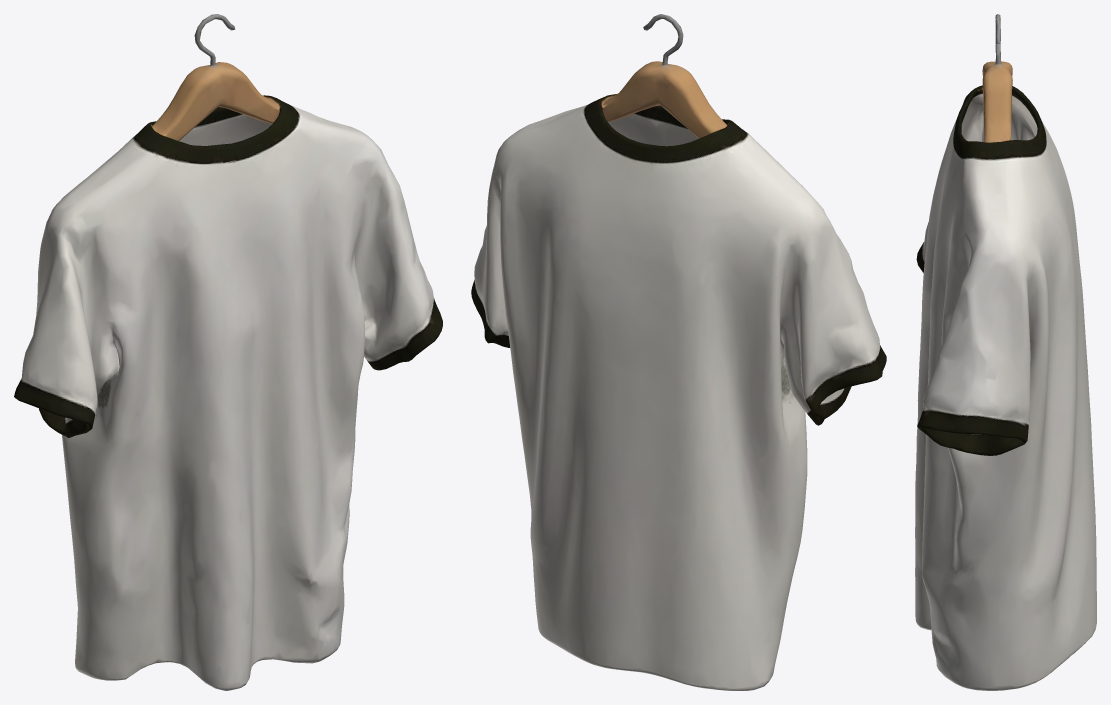
Rendered from 05-camisa.glb.
3 renders of one model, left to right at view 1: azimuth 30°, elevation 25°; view 2: azimuth 150°, elevation 25°; view 3: azimuth 270°, elevation 25°, orthographic. The views are drawn at different scales.
Parts seen in each view (by area): view 1: tripo_node_6eb373ab-7753-46c1-bd3d-4da37cc24d3b; view 2: tripo_node_6eb373ab-7753-46c1-bd3d-4da37cc24d3b; view 3: tripo_node_6eb373ab-7753-46c1-bd3d-4da37cc24d3b.
Part boxes in pixels (<box>): tripo_node_6eb373ab-7753-46c1-bd3d-4da37cc24d3b: <box>14,14,442,690</box>; tripo_node_6eb373ab-7753-46c1-bd3d-4da37cc24d3b: <box>471,14,886,690</box>; tripo_node_6eb373ab-7753-46c1-bd3d-4da37cc24d3b: <box>915,14,1096,690</box>.
Size of the model in its own units: 0.6731 by 1 by 0.2653.
Materials: 1 (1 with a texture image).
